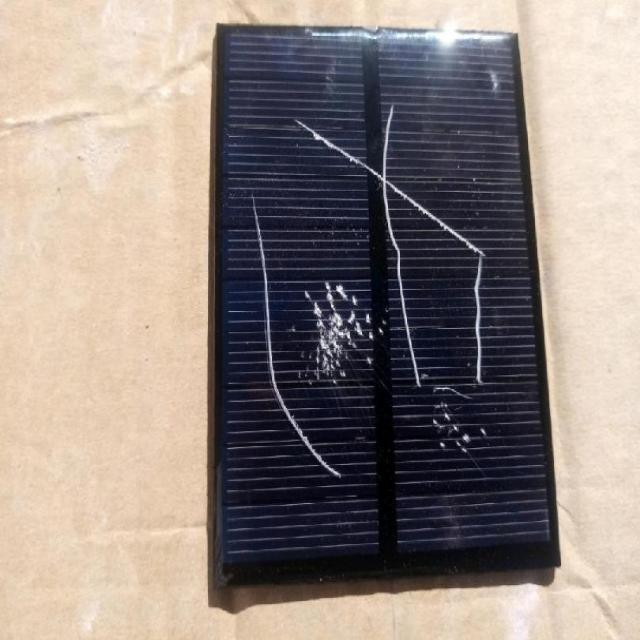faulty: (212, 16, 556, 596)
